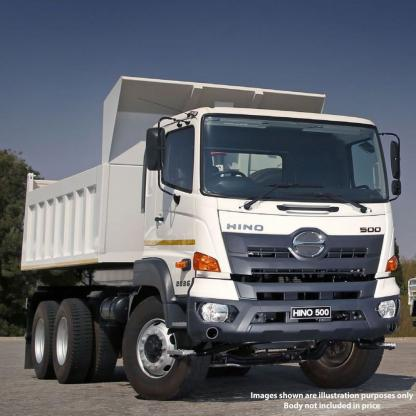dump_truck: (12, 68, 412, 405)
